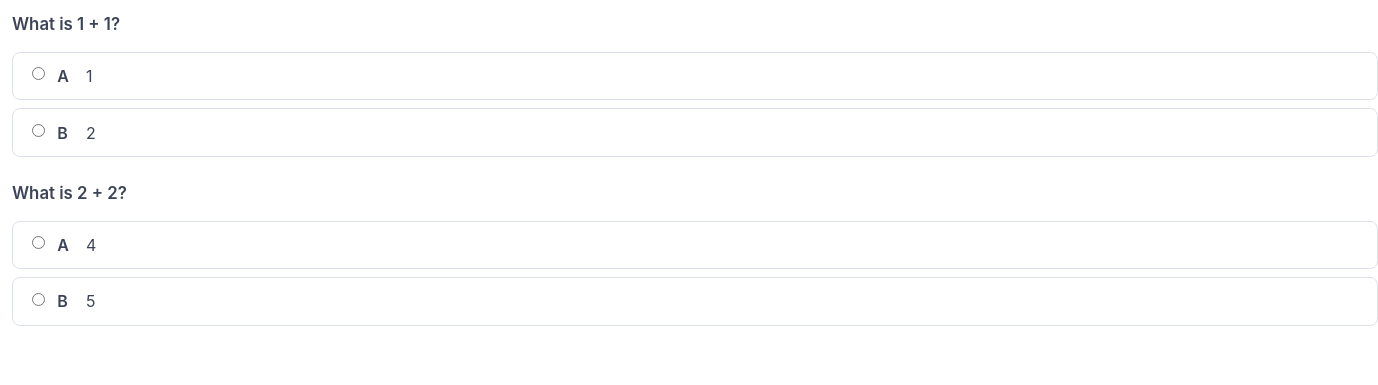
Test: PracticeQuiz › choosing the correct option reveals it as correct, with the explanation
Click the text "2" at coordinates (91, 133), box [86, 121, 96, 145]
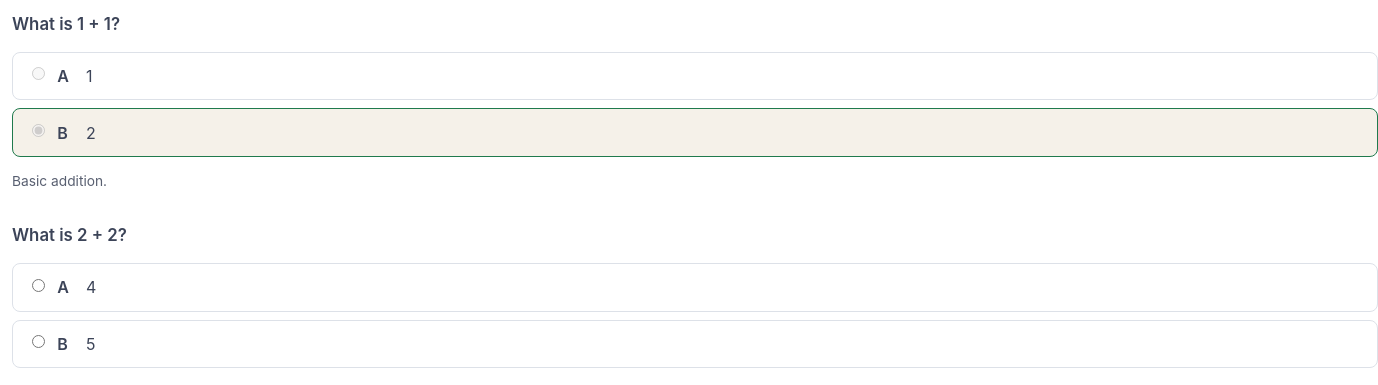
Result: the text "Basic addition." is shown at [12, 173, 107, 189]
